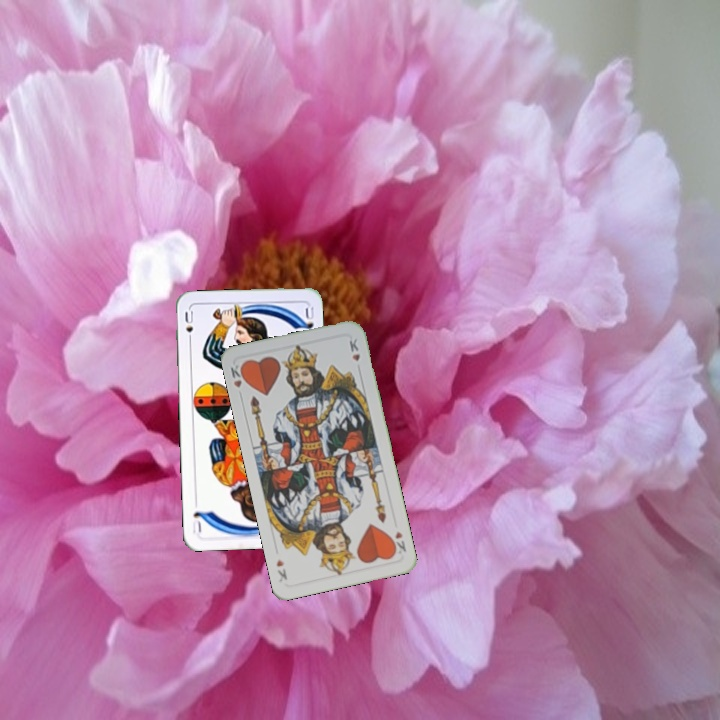HK: (226, 359, 249, 401), (387, 527, 409, 558)
SU: (181, 307, 197, 346)
